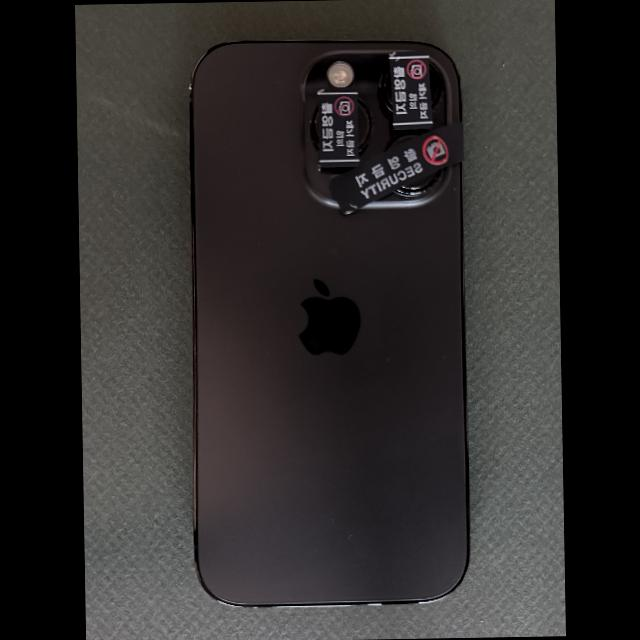lens: (395, 169, 440, 195), (358, 99, 372, 151), (377, 66, 391, 112)
phone: (190, 42, 467, 605)
sticker: (326, 120, 464, 216), (387, 49, 433, 130), (317, 87, 359, 169)
